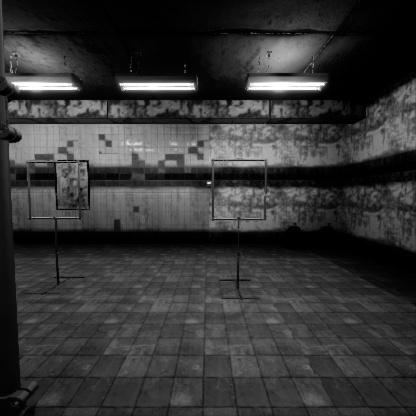gate: (212, 195, 272, 257), (27, 196, 86, 255)
